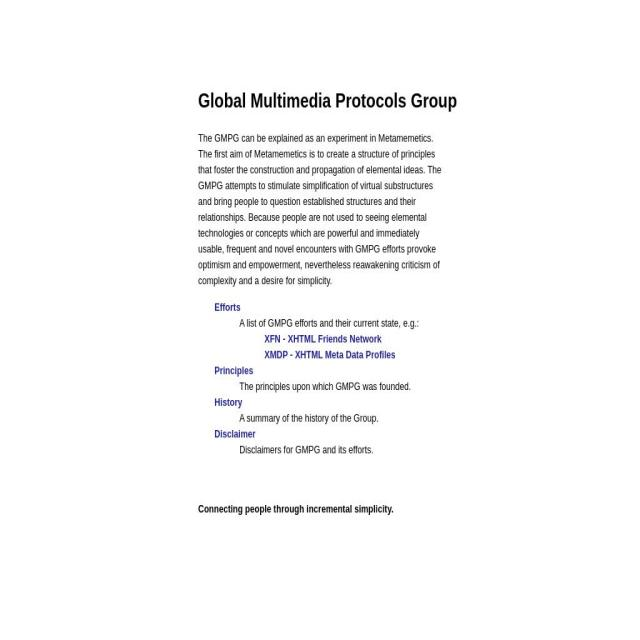heading: (198, 85, 442, 117)
link: (264, 347, 396, 361), (264, 332, 382, 345), (214, 363, 253, 377), (214, 427, 256, 440), (215, 395, 242, 408), (214, 300, 240, 313)
text: (198, 130, 442, 288), (198, 500, 442, 517), (239, 409, 442, 426), (239, 378, 442, 394), (239, 441, 442, 457), (239, 316, 419, 329)
